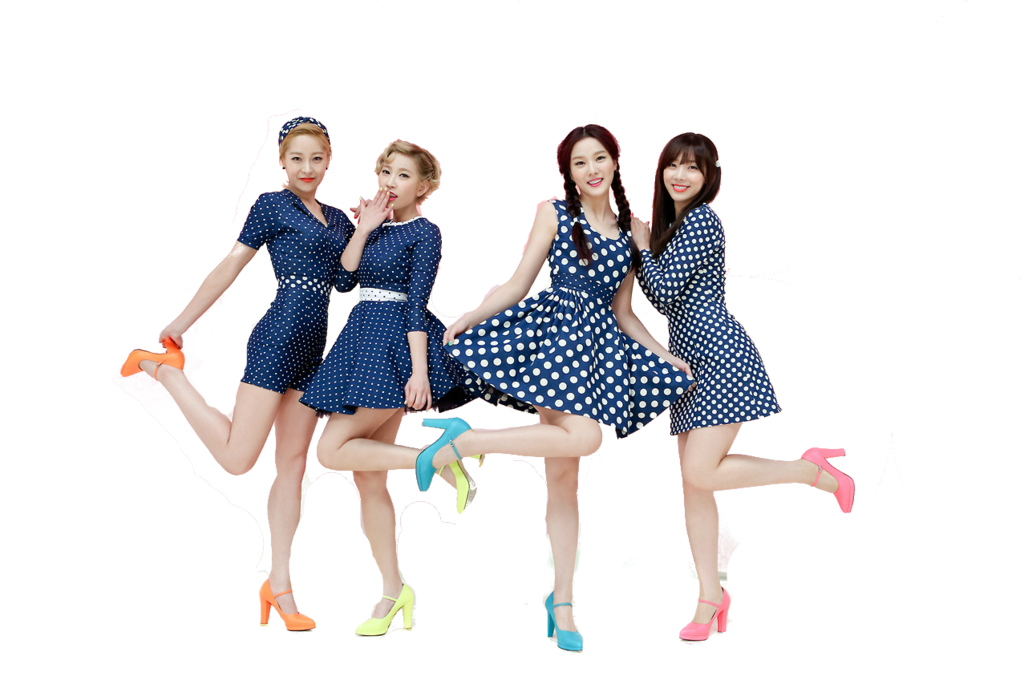person: (190, 110, 363, 281), (332, 138, 466, 298), (617, 124, 731, 298), (521, 141, 654, 257)
